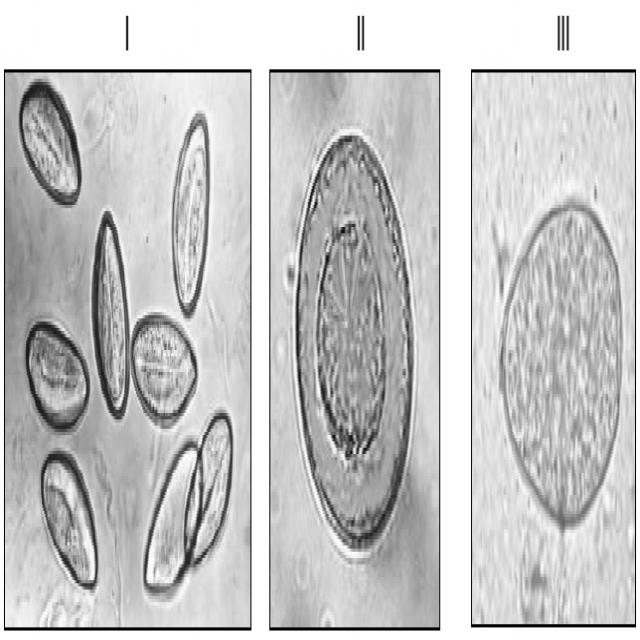Enterobius Vermicularis: (143, 440, 205, 604), (21, 307, 92, 446), (182, 403, 237, 577), (124, 306, 201, 429), (90, 192, 128, 432), (18, 74, 85, 210), (41, 440, 98, 594), (170, 106, 212, 310)
Fasciola Hepatica: (498, 188, 625, 528)
Hymenolepis: (287, 121, 420, 556)
